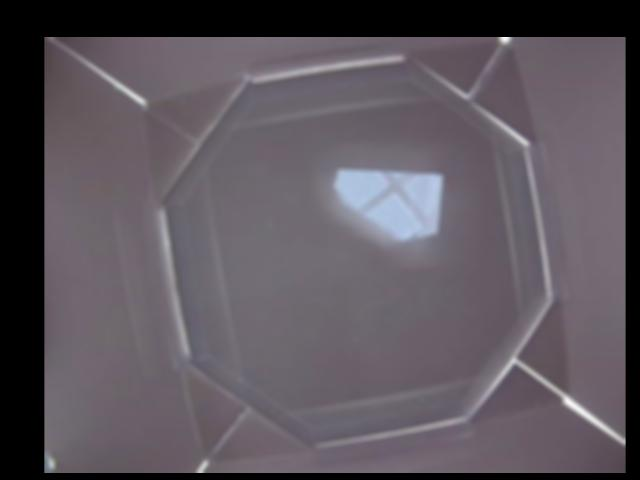China: (335, 172, 443, 238)
